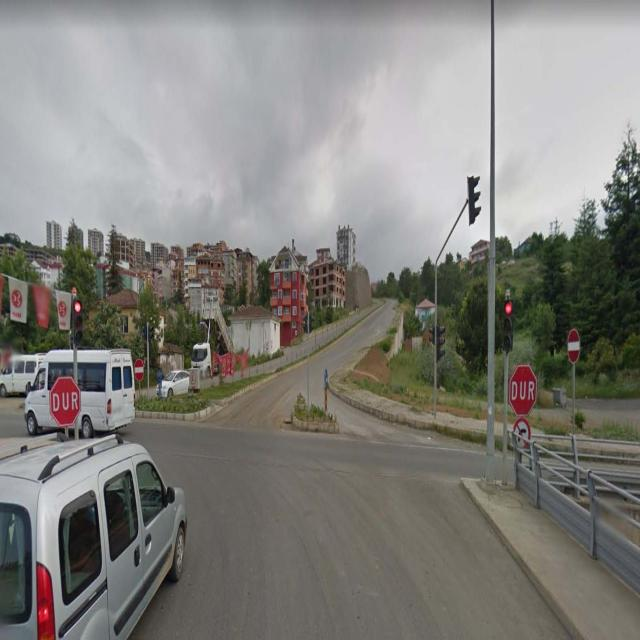dur: (50, 378, 81, 426), (511, 363, 535, 412)
girisyok: (567, 330, 582, 364)
kirmizi: (504, 298, 513, 356), (74, 302, 82, 346)
